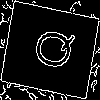Q: (25, 24, 76, 72)
